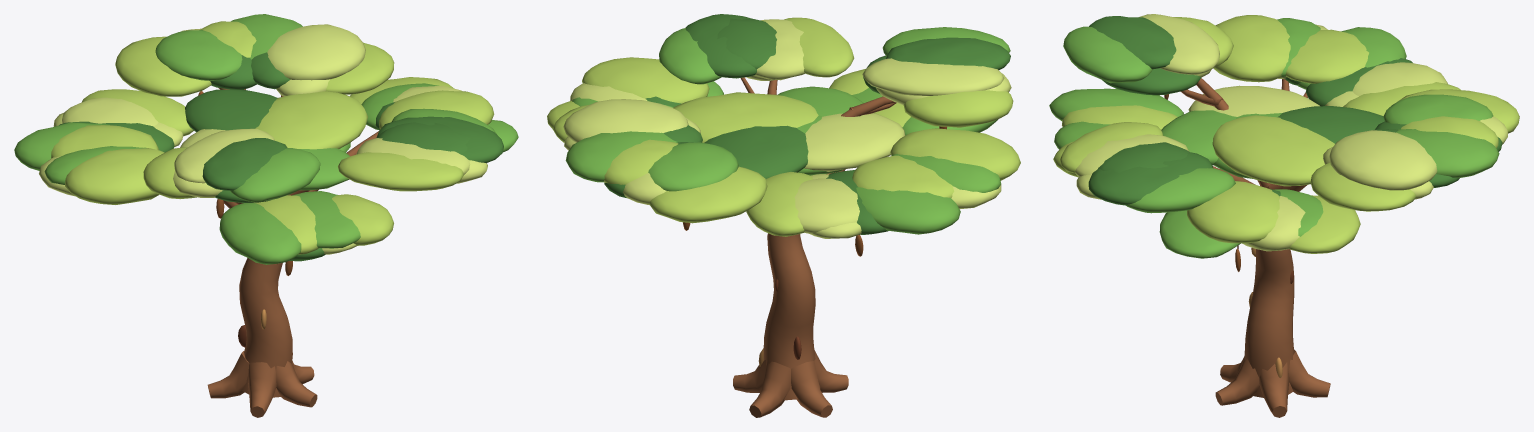
The model's file is savanna_acacia.glb.
3 views of the same model, side by side, from view 1: azimuth 30°, elevation 25°; view 2: azimuth 150°, elevation 25°; view 3: azimuth 270°, elevation 25° (orthographic). The views are drawn at different scales.
Visible parts, largest first — view 1: Central Crown 02, Hero Trunk, Canopy Lobe 08, Canopy Lobe 27, Canopy Lobe 43, Canopy Lobe 40, Canopy Lobe 14, Central Crown 04, Canopy Lobe 15, Canopy Lobe 36, Canopy Lobe 35, Canopy Lobe 05 (+29 smaller); view 2: Hero Trunk, Central Crown 03, Central Crown 02, Canopy Lobe 32, Canopy Lobe 15, Canopy Lobe 27, Central Crown 04, Canopy Lobe 08, Canopy Lobe 28, Canopy Lobe 05, Canopy Lobe 14, Canopy Lobe 31 (+28 smaller); view 3: Central Crown 02, Hero Trunk, Canopy Lobe 08, Canopy Lobe 05, Canopy Lobe 27, Canopy Lobe 29, Canopy Lobe 36, Canopy Lobe 47, Canopy Lobe 16, Canopy Lobe 48, Canopy Lobe 07, Canopy Lobe 35 (+28 smaller).
Boxes of the visible parts, x1,y1,x2,y2 form: Central Crown 02: (255,91,367,149); Hero Trunk: (239,258,292,397); Canopy Lobe 08: (267,24,365,80); Canopy Lobe 27: (65,148,164,204); Canopy Lobe 43: (338,152,463,191); Canopy Lobe 40: (219,203,301,264); Canopy Lobe 14: (155,30,242,80); Central Crown 04: (185,89,277,132); Canopy Lobe 15: (115,36,211,96); Canopy Lobe 36: (230,148,320,202); Canopy Lobe 35: (202,138,287,190); Canopy Lobe 05: (379,90,494,129); Hero Trunk: (763,233,820,400); Central Crown 03: (804,113,905,171); Central Crown 02: (673,92,818,142); Canopy Lobe 32: (862,58,1004,95); Canopy Lobe 15: (649,166,767,223); Canopy Lobe 27: (890,128,1020,180); Central Crown 04: (704,125,808,178); Canopy Lobe 08: (563,99,688,142); Canopy Lobe 28: (856,187,960,234); Canopy Lobe 05: (582,57,709,103); Canopy Lobe 14: (648,142,738,191); Canopy Lobe 31: (903,90,1013,127); Central Crown 02: (1212,115,1334,186); Hero Trunk: (1244,182,1294,397); Canopy Lobe 08: (1329,130,1437,190); Canopy Lobe 05: (1187,181,1279,243); Canopy Lobe 27: (1213,15,1290,82); Canopy Lobe 29: (1285,29,1368,83); Canopy Lobe 36: (1063,26,1152,83); Canopy Lobe 47: (1088,152,1212,205); Canopy Lobe 16: (1396,129,1499,177); Canopy Lobe 48: (1126,168,1235,213); Canopy Lobe 07: (1310,163,1416,211); Canopy Lobe 35: (1089,16,1176,69).
Bounding box in the file's own units: 11.37 × 8.01 × 10.6.
